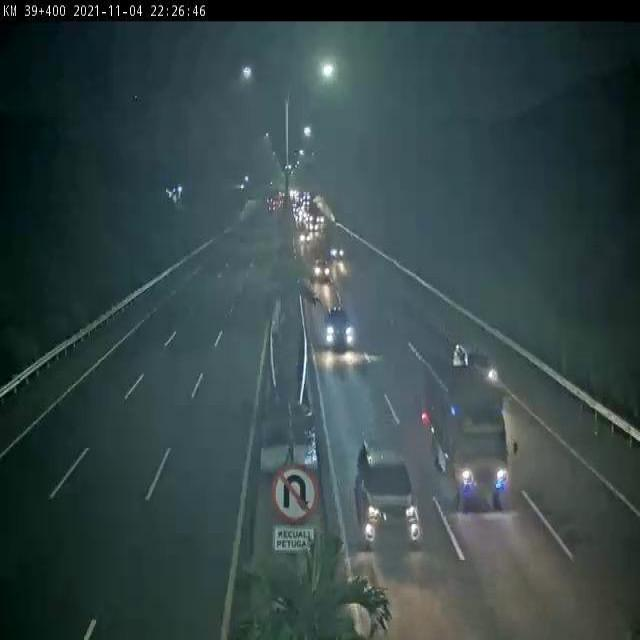car: (353, 435, 422, 548), (325, 308, 356, 352)
truck-m-: (425, 331, 519, 516)
